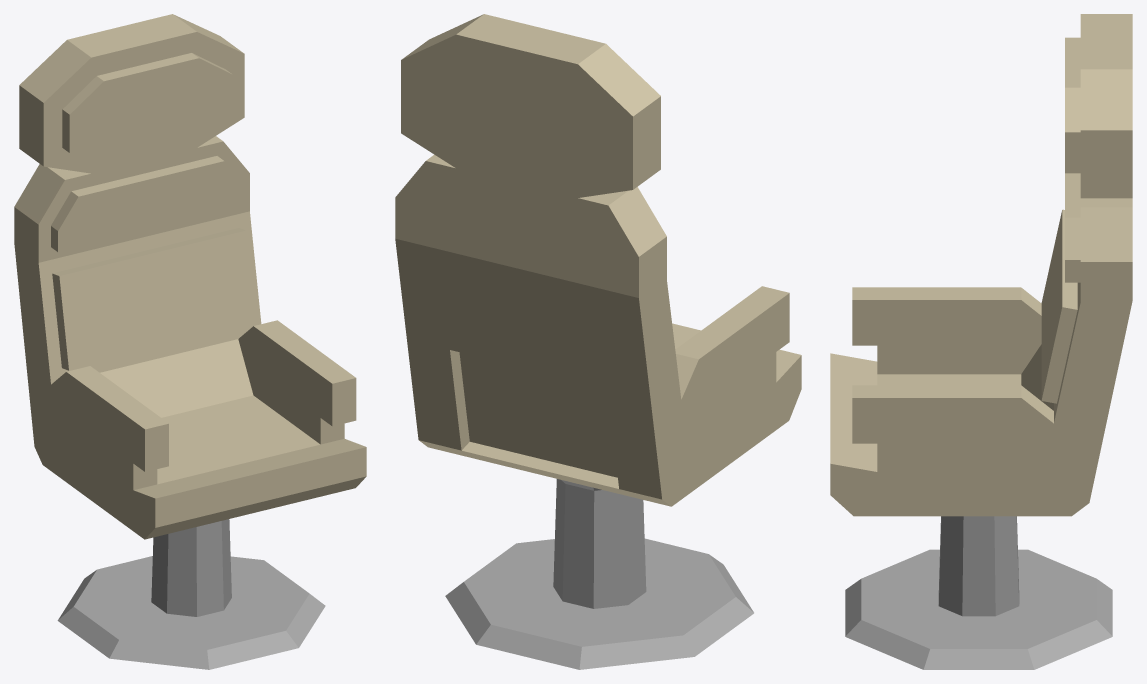
File: SciFi_Modular_Chair_Grey_02.fbx
3 views of the same model, side by side, from view 1: azimuth 30°, elevation 25°; view 2: azimuth 150°, elevation 25°; view 3: azimuth 270°, elevation 25° (orthographic). The views are drawn at different scales.
Visible parts, largest first — view 1: SciFi_Modular_Chair_Grey_02; view 2: SciFi_Modular_Chair_Grey_02; view 3: SciFi_Modular_Chair_Grey_02.
Part boxes in pixels (box(x1,y1,x2,y2)): SciFi_Modular_Chair_Grey_02: box(14, 14, 366, 669); SciFi_Modular_Chair_Grey_02: box(395, 14, 801, 669); SciFi_Modular_Chair_Grey_02: box(830, 14, 1132, 669).
Bounding box in the file's own units: 702 × 1655 × 794.
